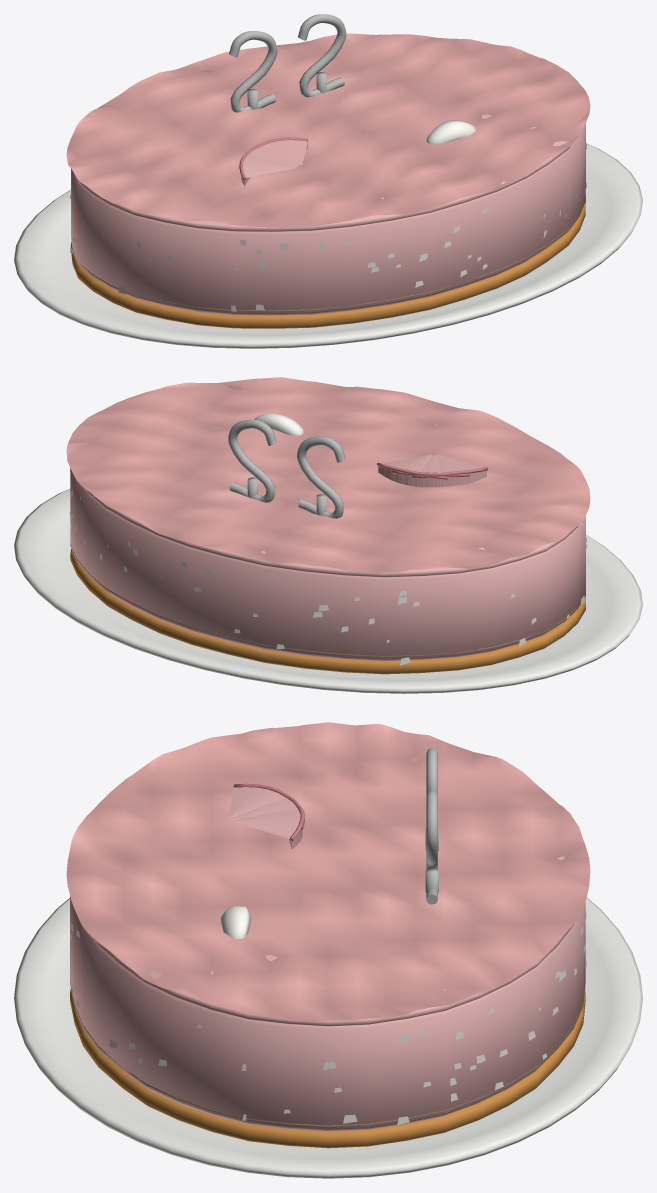
Rendered from cake-22.ffe71048498d.glb.
3 renders of one model, top to bottom at view 1: azimuth 30°, elevation 25°; view 2: azimuth 150°, elevation 25°; view 3: azimuth 270°, elevation 25°, orthographic. The views are drawn at different scales.
Parts seen in each view (by area): view 1: Irregular_hand_spread_food_surface, PART_FOOD_ROOT_MAT_pink, Clean_porcelain_plate, Thin_sponge_foundation, PART_FOOD_ROOT_MAT_satin_silver_wax, PART_FOOD_ROOT_MAT_cream, Fine_oolong_filling_line; view 2: Irregular_hand_spread_food_surface, PART_FOOD_ROOT_MAT_pink, Clean_porcelain_plate, Thin_sponge_foundation, PART_FOOD_ROOT_MAT_satin_silver_wax, PART_FOOD_ROOT_MAT_cream, Fine_oolong_filling_line, PART_FOOD_ROOT_MAT_peach_skin; view 3: Irregular_hand_spread_food_surface, PART_FOOD_ROOT_MAT_pink, Clean_porcelain_plate, Thin_sponge_foundation, PART_FOOD_ROOT_MAT_cream, PART_FOOD_ROOT_MAT_satin_silver_wax, Fine_oolong_filling_line.
Boxes of the visible parts, x1,y1,x2,y2 form: Irregular_hand_spread_food_surface: (66, 33, 590, 227); PART_FOOD_ROOT_MAT_pink: (71, 52, 585, 315); Clean_porcelain_plate: (14, 144, 642, 348); Thin_sponge_foundation: (71, 194, 585, 328); PART_FOOD_ROOT_MAT_satin_silver_wax: (229, 14, 346, 112); PART_FOOD_ROOT_MAT_cream: (70, 120, 586, 311); Fine_oolong_filling_line: (71, 186, 585, 311); Irregular_hand_spread_food_surface: (66, 377, 590, 573); PART_FOOD_ROOT_MAT_pink: (70, 385, 585, 661); Clean_porcelain_plate: (14, 489, 642, 693); Thin_sponge_foundation: (70, 549, 585, 674); PART_FOOD_ROOT_MAT_satin_silver_wax: (228, 419, 345, 518); PART_FOOD_ROOT_MAT_cream: (69, 413, 587, 665); Fine_oolong_filling_line: (70, 544, 585, 657); PART_FOOD_ROOT_MAT_peach_skin: (376, 463, 488, 479); Irregular_hand_spread_food_surface: (66, 722, 590, 1021); PART_FOOD_ROOT_MAT_pink: (70, 757, 585, 1131); Clean_porcelain_plate: (14, 897, 642, 1178); Thin_sponge_foundation: (70, 988, 585, 1148); PART_FOOD_ROOT_MAT_cream: (70, 906, 586, 1124); PART_FOOD_ROOT_MAT_satin_silver_wax: (425, 748, 438, 904); Fine_oolong_filling_line: (70, 981, 585, 1127).
Size of the model in its own units: 0.2264 by 0.0717 by 0.1698.
